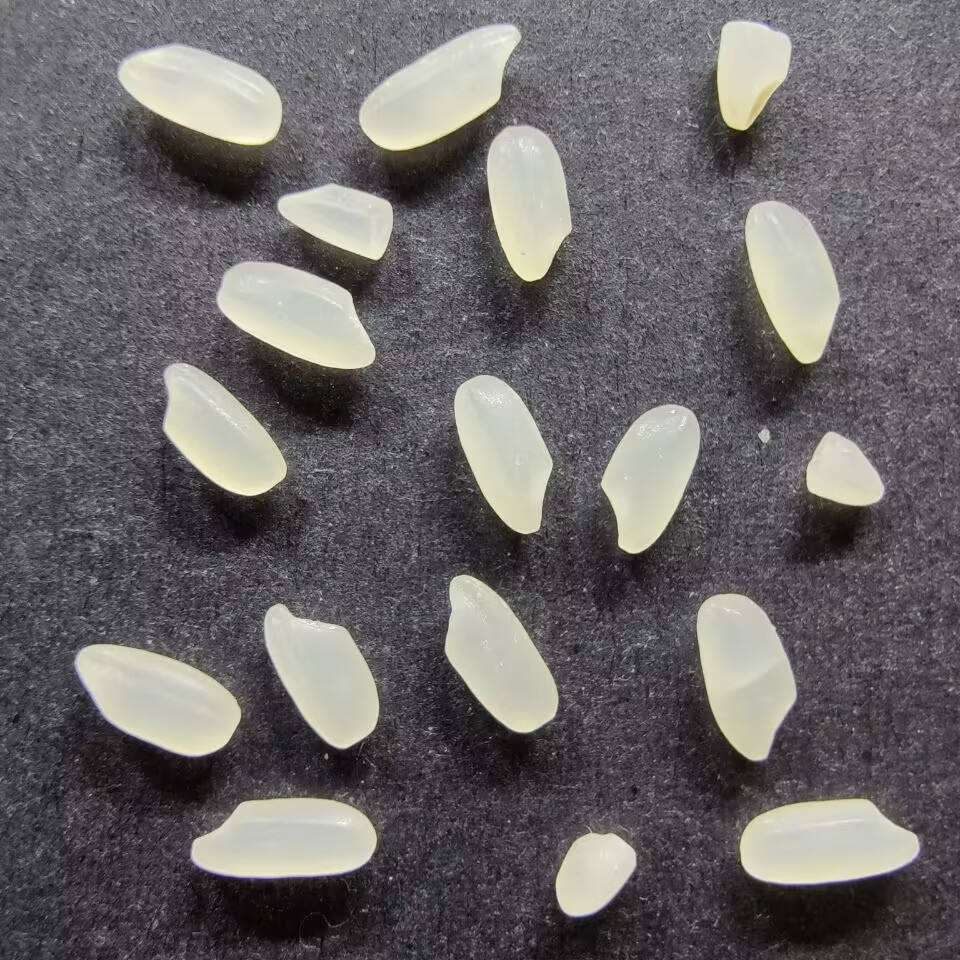broken: (275, 182, 396, 262), (714, 19, 792, 131), (551, 831, 641, 919), (803, 428, 886, 508)
rice: (356, 19, 523, 151), (70, 643, 242, 757), (442, 574, 563, 734), (262, 600, 382, 751), (158, 361, 290, 498), (694, 592, 799, 763), (217, 260, 378, 370), (116, 43, 283, 146), (742, 199, 843, 366), (452, 374, 555, 537), (737, 795, 921, 886), (597, 402, 702, 555), (187, 796, 378, 879), (484, 124, 575, 282)
